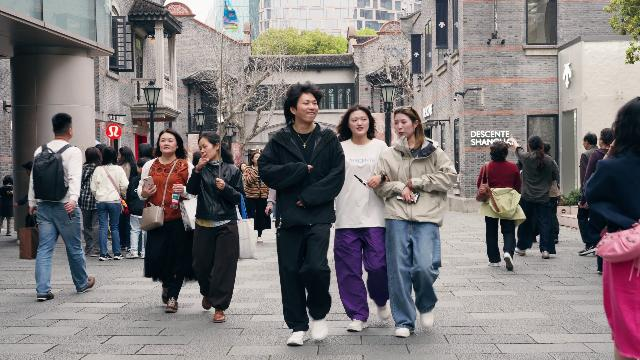person: (258, 82, 346, 346), (372, 104, 457, 338), (584, 96, 640, 360), (332, 104, 390, 333), (28, 112, 96, 302), (187, 114, 236, 330), (137, 127, 184, 306), (507, 134, 560, 259), (476, 141, 526, 270), (89, 146, 129, 262), (578, 132, 601, 256), (78, 147, 103, 257), (242, 152, 272, 243), (544, 141, 565, 244), (13, 161, 35, 208), (0, 175, 14, 236)
